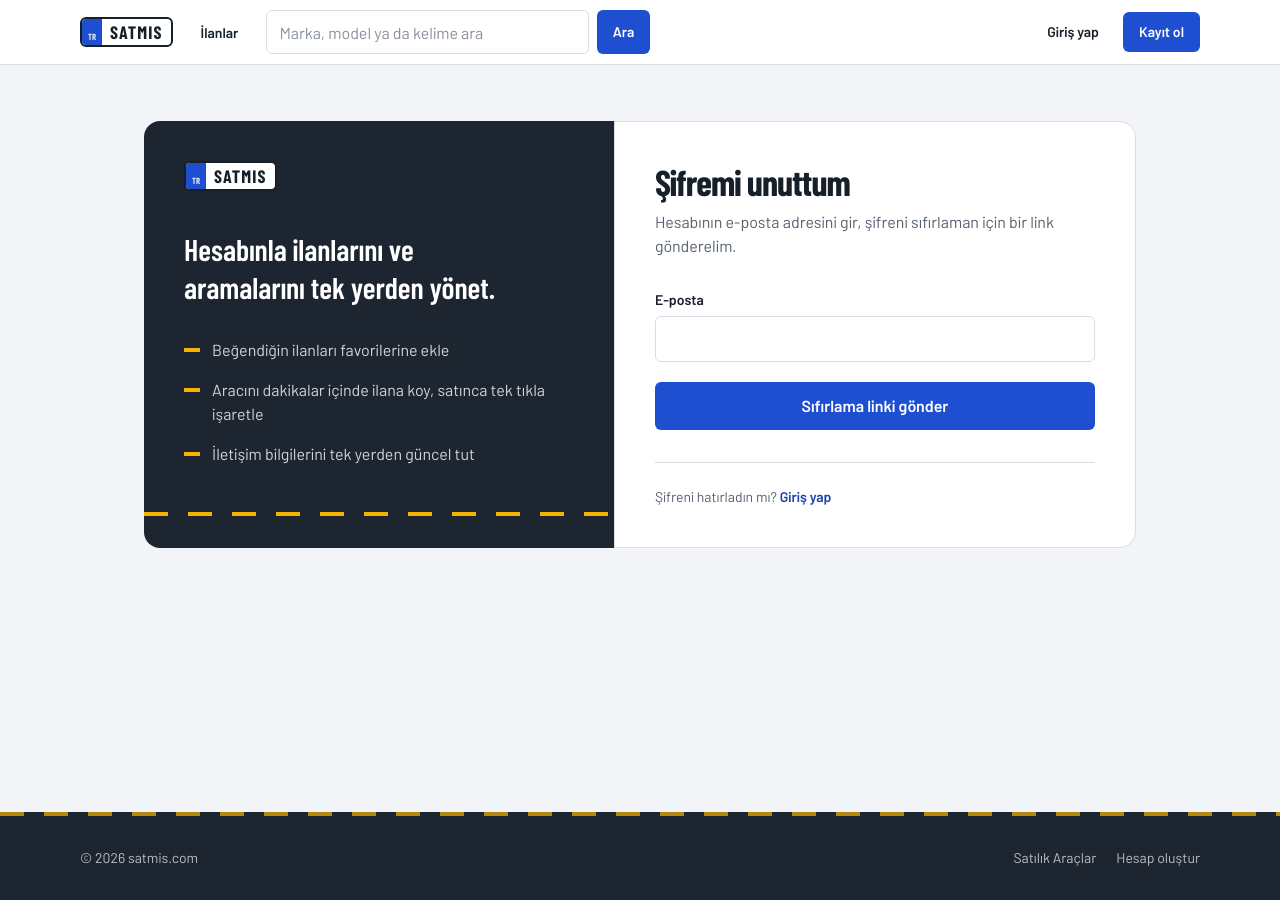
Test: ForgotPasswordPage › invalidEmail_showsTurkishErrorWithoutRequest
The image size is (1280, 900).
Type "ayse@" into the field labelled "E-posta". click: (875, 339)
box: [656,317,1094,361]
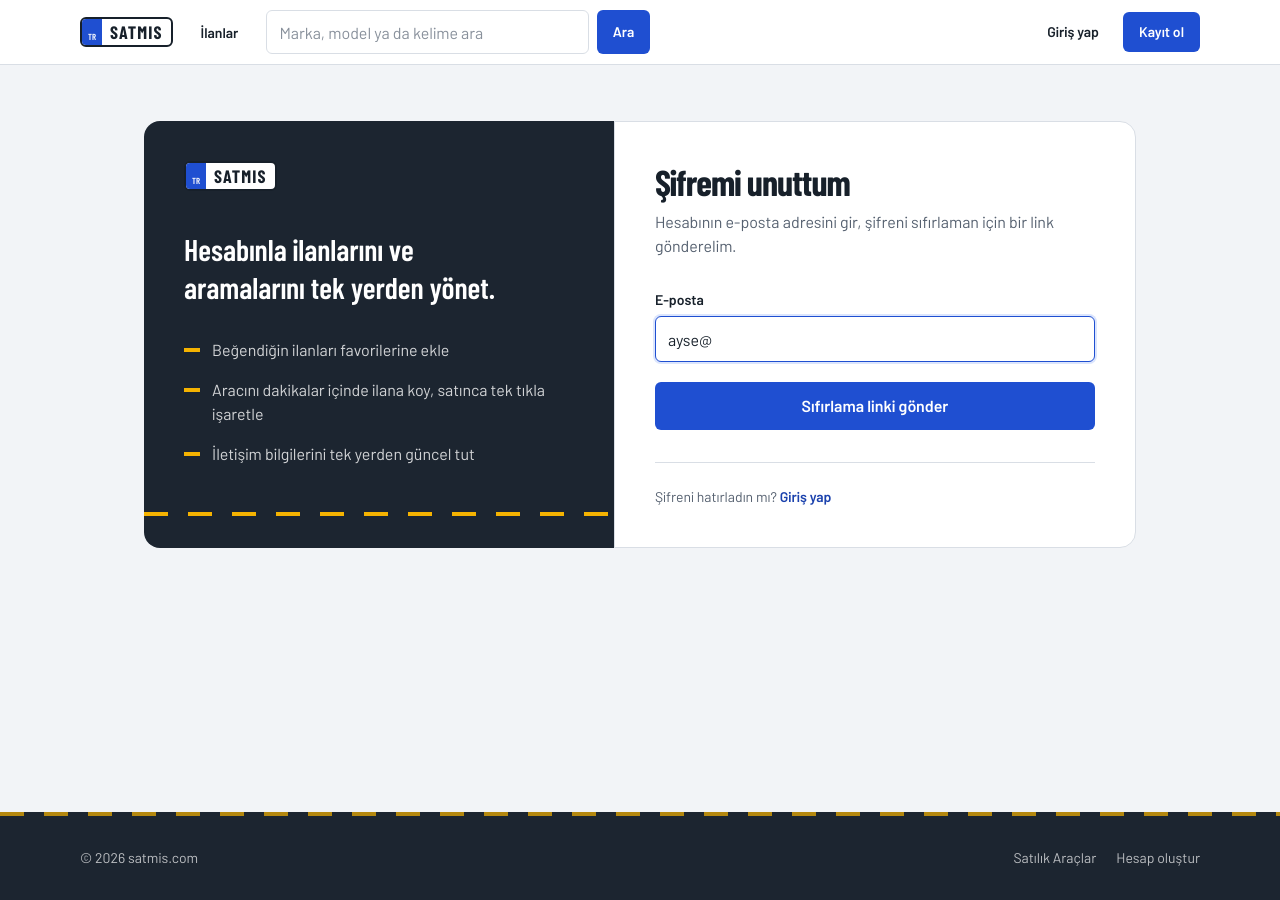
Click the button "Sıfırlama linki gönder". click: (875, 406)
box: [655,382,1095,430]
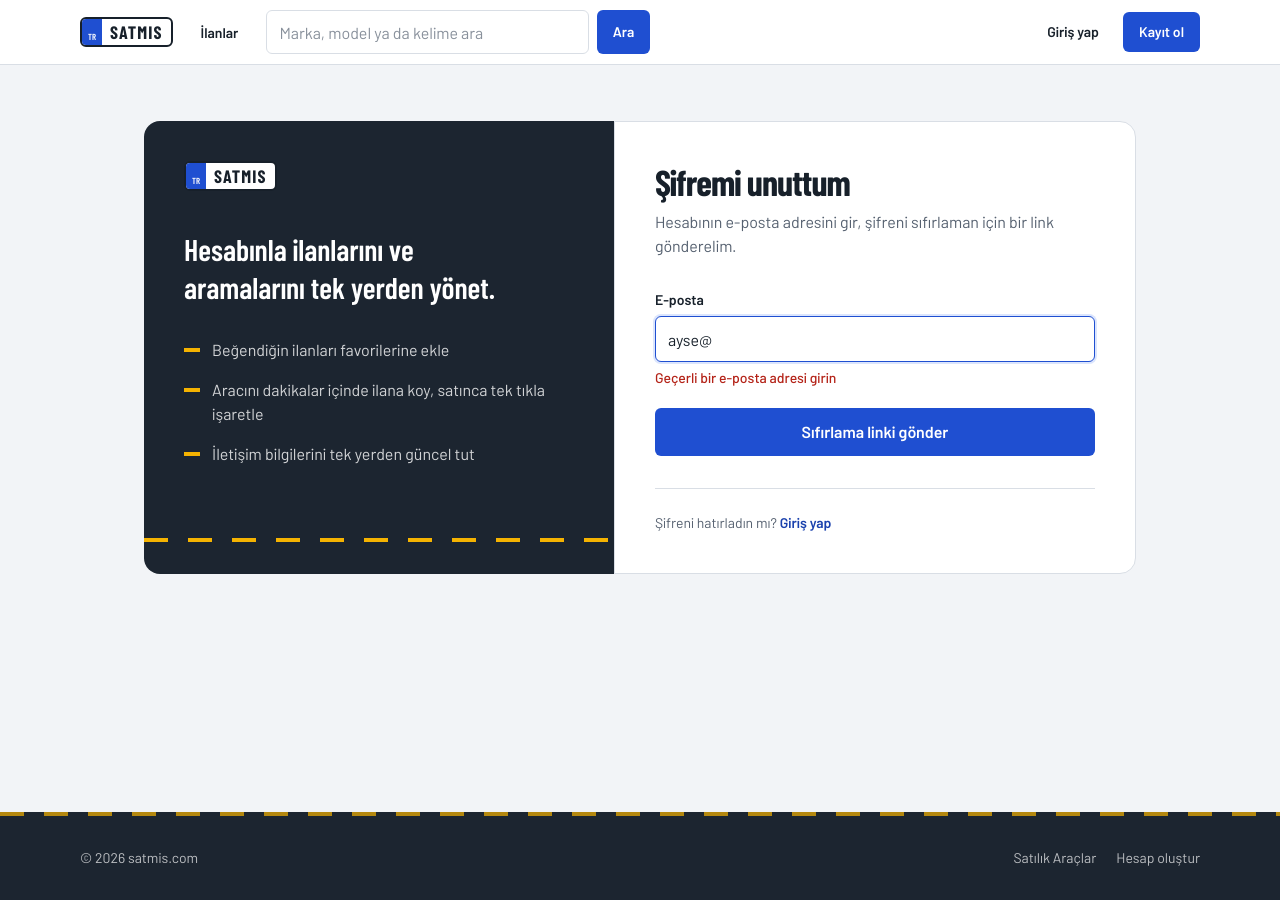
Expected: the text "Geçerli bir e-posta adresi girin" is shown, [655,369,836,386]
